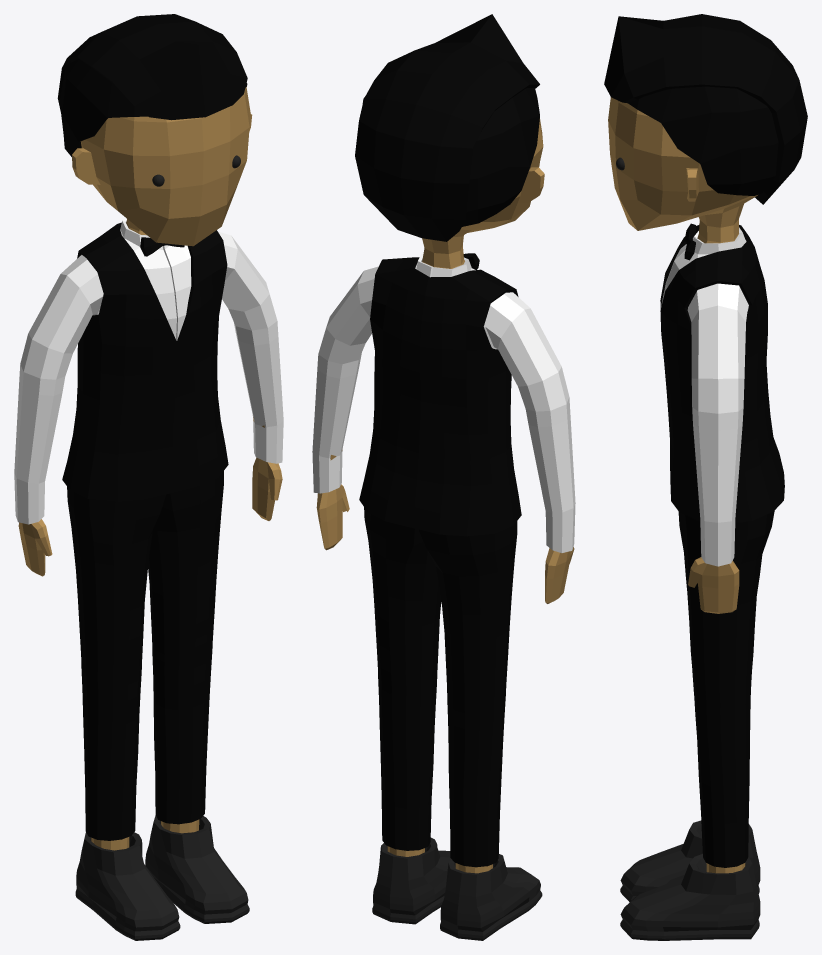
Rendered from Mozo.fbx.
3 views of the same model, side by side, from view 1: azimuth 30°, elevation 25°; view 2: azimuth 150°, elevation 25°; view 3: azimuth 270°, elevation 25° (orthographic). The views are drawn at different scales.
Parts seen in each view (by area): view 1: Mozo; view 2: Mozo; view 3: Mozo.
Part boxes in pixels (left/top/right/bottom): Mozo: left=14, top=14, right=283, bottom=940; Mozo: left=312, top=14, right=575, bottom=940; Mozo: left=604, top=14, right=807, bottom=940.
Bounding box in the file's own units: 56.33 × 180 × 37.19.
